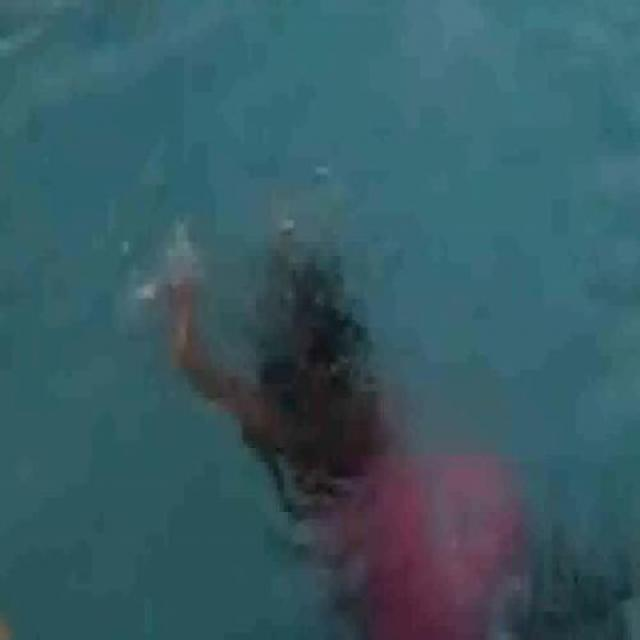drowning: (160, 247, 447, 563)
